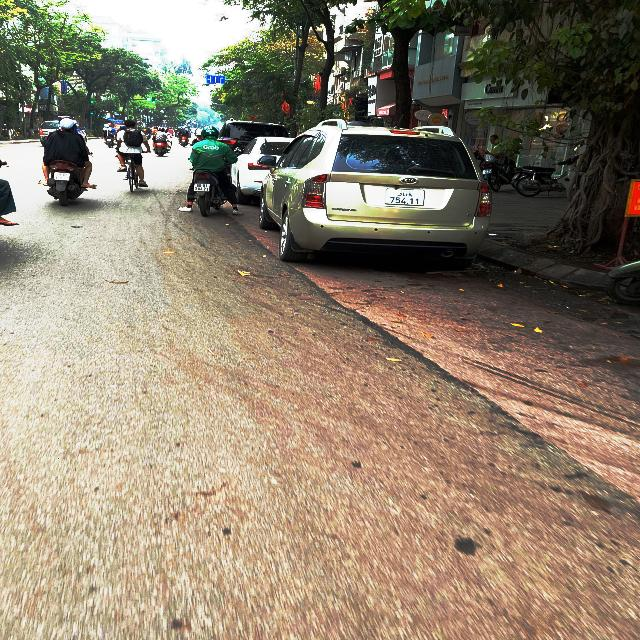license_plate: (385, 189, 427, 207)
